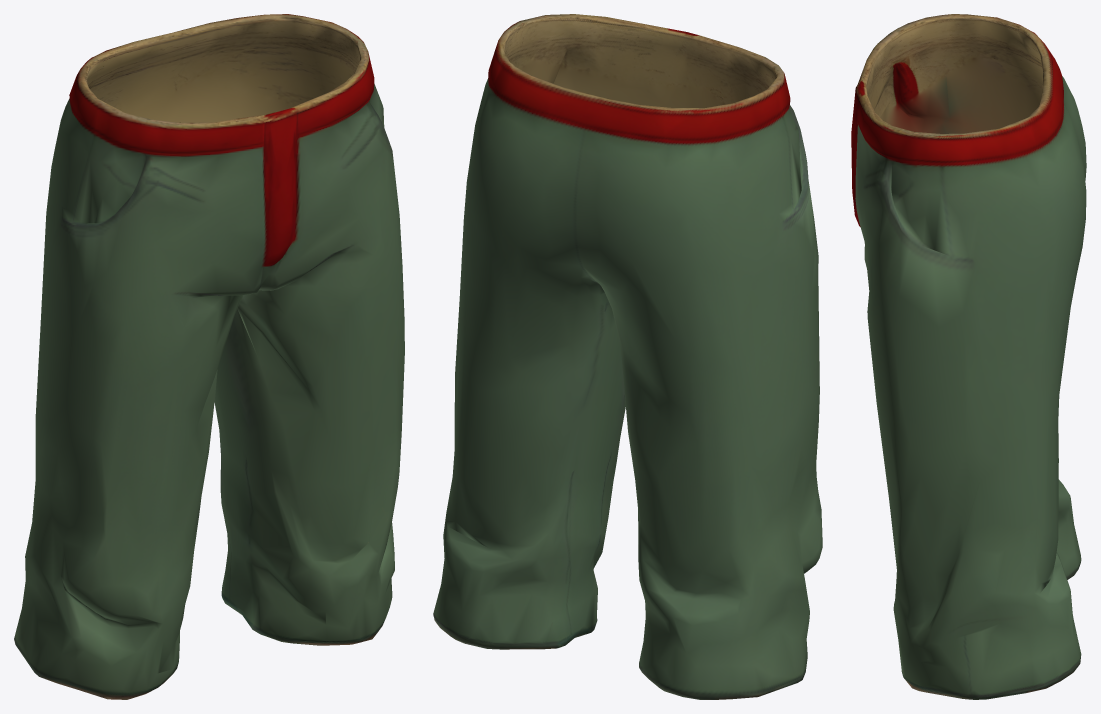
File: FisherPants.fbx
The picture shows the model from 3 angles, left to right: view 1: azimuth 30°, elevation 25°; view 2: azimuth 150°, elevation 25°; view 3: azimuth 270°, elevation 25°; orthographic projection. The views are drawn at different scales.
Parts seen in each view (by area): view 1: FisherPants; view 2: FisherPants; view 3: FisherPants.
Boxes of the visible parts, x1,y1,x2,y2 form: FisherPants: [14, 14, 404, 699]; FisherPants: [433, 14, 822, 699]; FisherPants: [851, 14, 1086, 699].
Bounding box in the file's own units: 24.67 × 39.62 × 15.17.
Materials: 1 (1 with a texture image).
